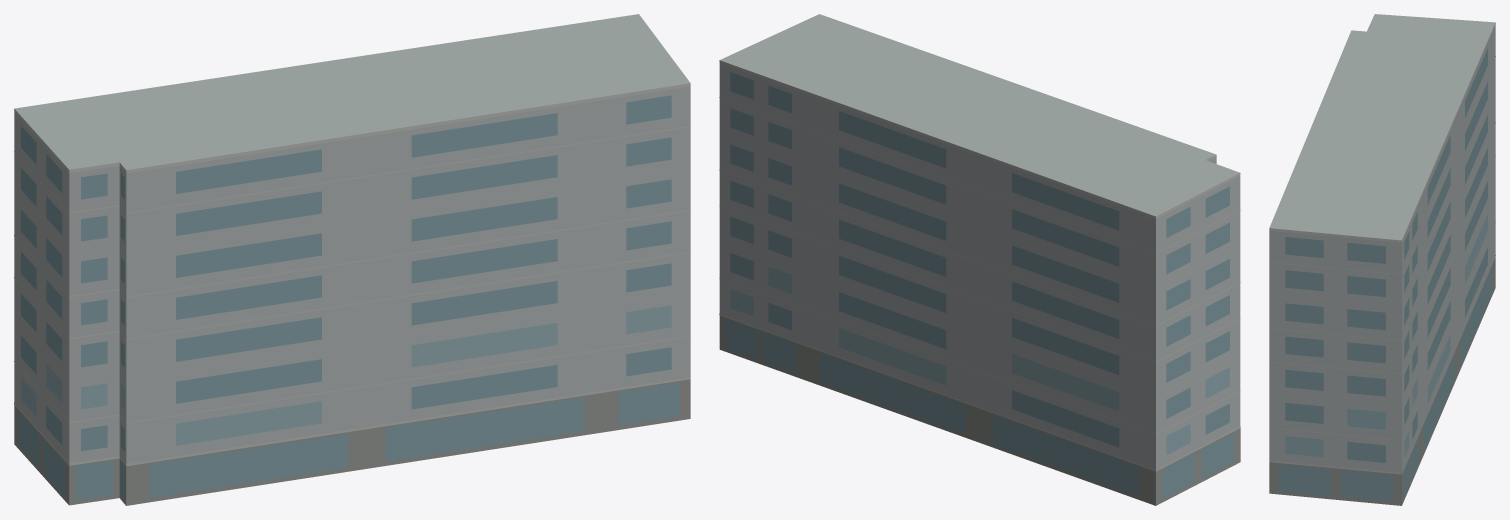
Rendered from survey-upis-32698552.glb.
3 views of the same model, side by side, from view 1: azimuth 30°, elevation 25°; view 2: azimuth 150°, elevation 25°; view 3: azimuth 270°, elevation 25° (orthographic). The views are drawn at different scales.
Parts seen in each view (by area): view 1: survey-upis-32698552.tmp; view 2: survey-upis-32698552.tmp; view 3: survey-upis-32698552.tmp.
Boxes of the visible parts, box(x1,y1,x2,y2) form: survey-upis-32698552.tmp: box(14, 14, 690, 505); survey-upis-32698552.tmp: box(719, 14, 1240, 505); survey-upis-32698552.tmp: box(1269, 14, 1495, 505).
Bounding box in the file's own units: 44.13 × 24.1 × 18.65.
